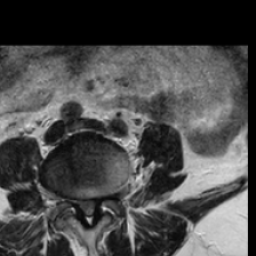CCS_normal: (85, 191, 93, 230)
LFS_severe_stenosis: (103, 186, 112, 209)
LLS_severe_stenosis: (93, 191, 101, 219)
RFS_severe_stenosis: (67, 187, 76, 212)
RLS_stenosis: (76, 191, 85, 218)
